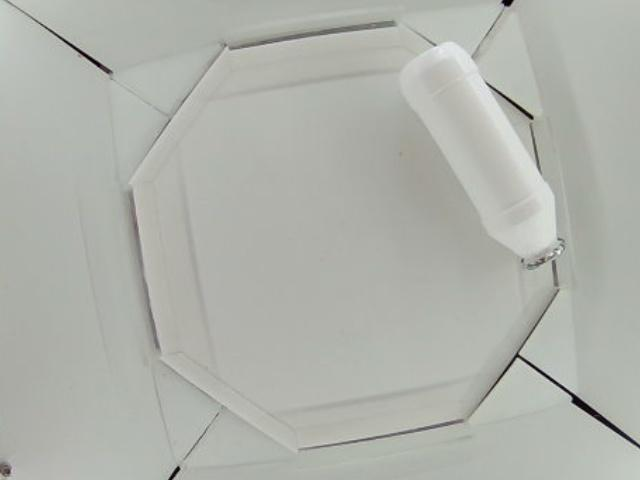Bottle: (398, 41, 565, 275)
